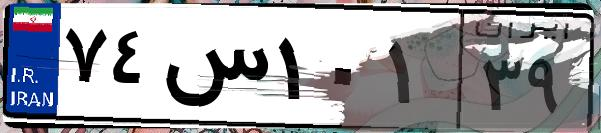0: (330, 28, 385, 110)
1: (270, 28, 330, 110), (385, 28, 445, 110)
3: (475, 38, 525, 113)
4: (110, 28, 158, 98)
7: (57, 26, 110, 100)
9: (525, 38, 570, 115)
س: (158, 20, 270, 120)
